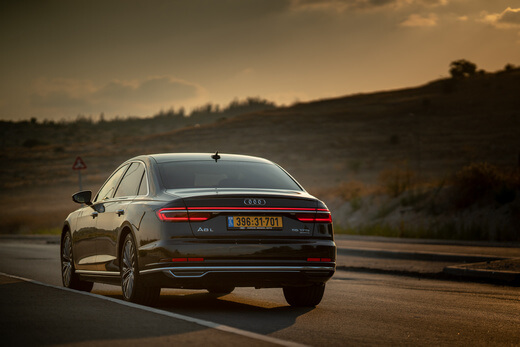licence: (226, 216, 284, 231)
